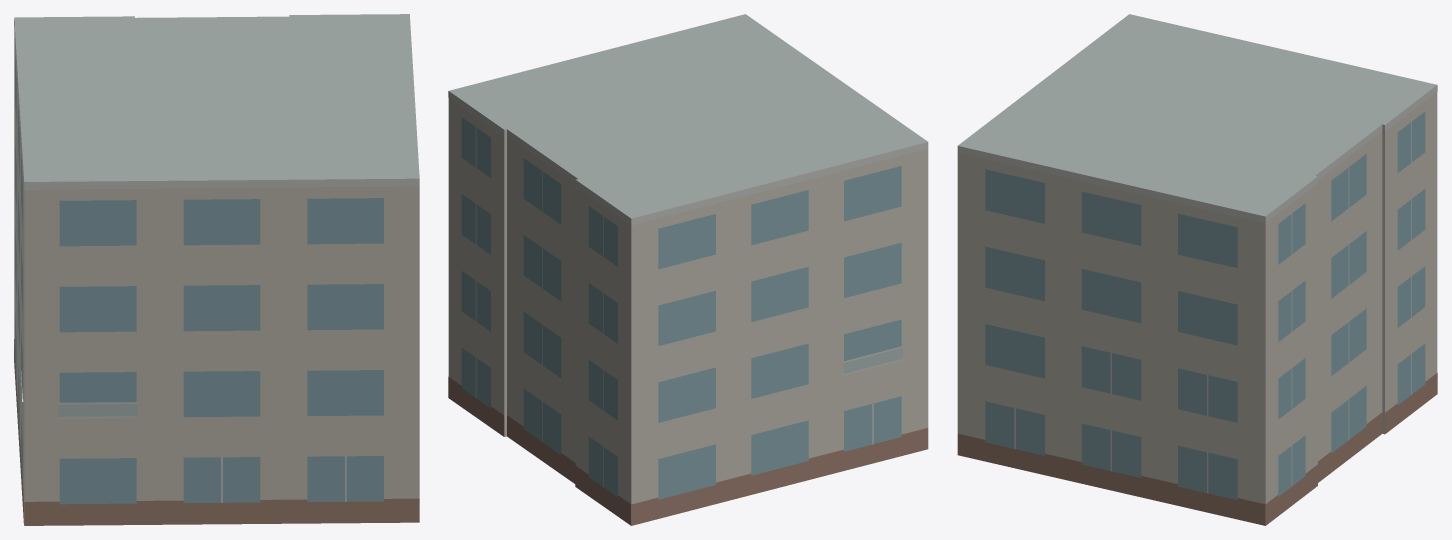
File: survey-upis-32582980.glb
3 views of the same model, side by side, from view 1: azimuth 30°, elevation 25°; view 2: azimuth 150°, elevation 25°; view 3: azimuth 270°, elevation 25° (orthographic). The views are drawn at different scales.
Visible parts, largest first — view 1: survey-upis-32582980.tmp; view 2: survey-upis-32582980.tmp; view 3: survey-upis-32582980.tmp.
Part boxes in pixels (box(x1,y1,x2,y2)): survey-upis-32582980.tmp: box(14, 14, 419, 525); survey-upis-32582980.tmp: box(448, 14, 928, 525); survey-upis-32582980.tmp: box(957, 14, 1437, 525).
Bounding box in the file's own units: 15.45 × 11 × 15.47.
